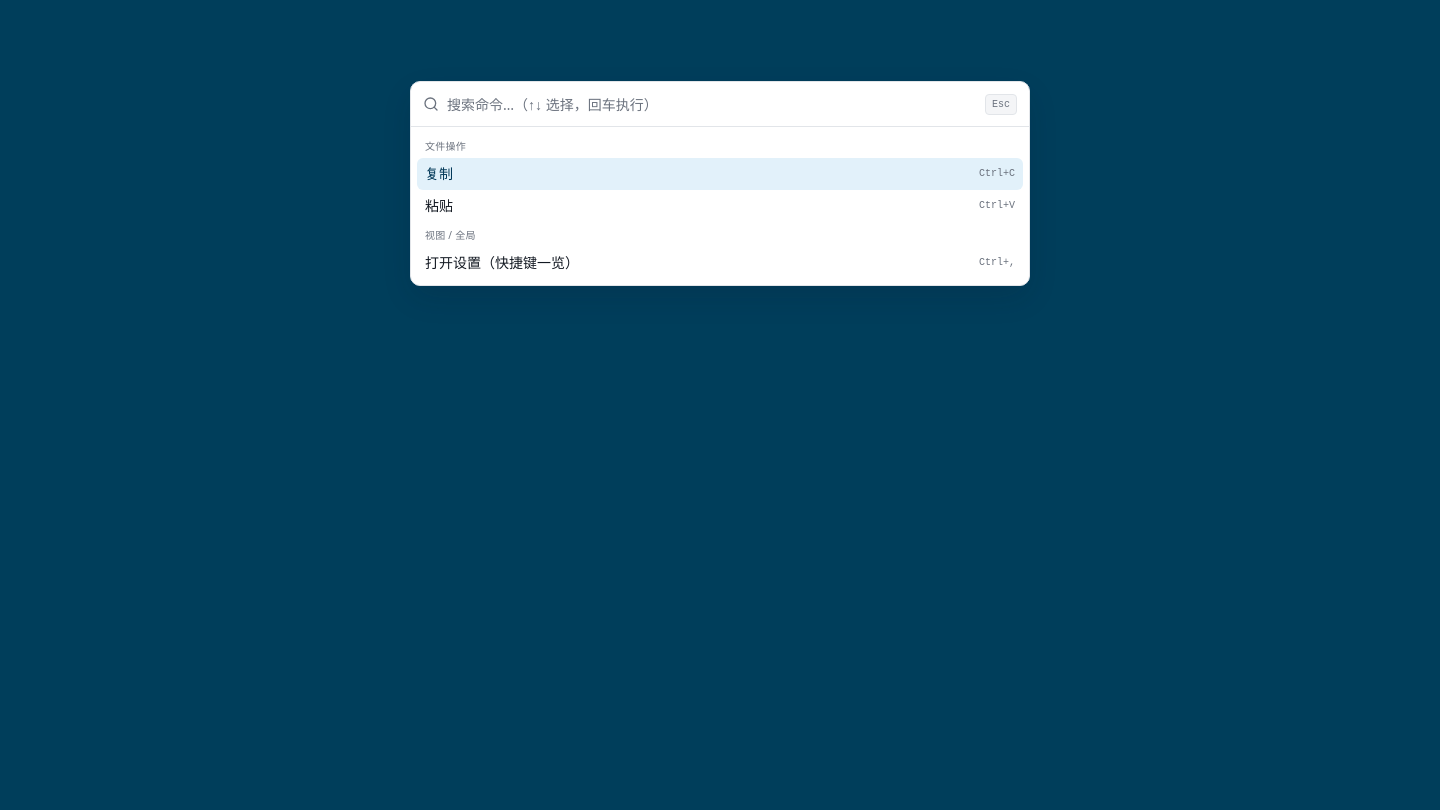
Test: CommandPalette 命令面板 › 无匹配时显示空状态
Type "不存在的命令" into the field with placeholder "搜索命令…（↑↓ 选择，回车执行）" at (712, 104), box [447, 92, 977, 116]
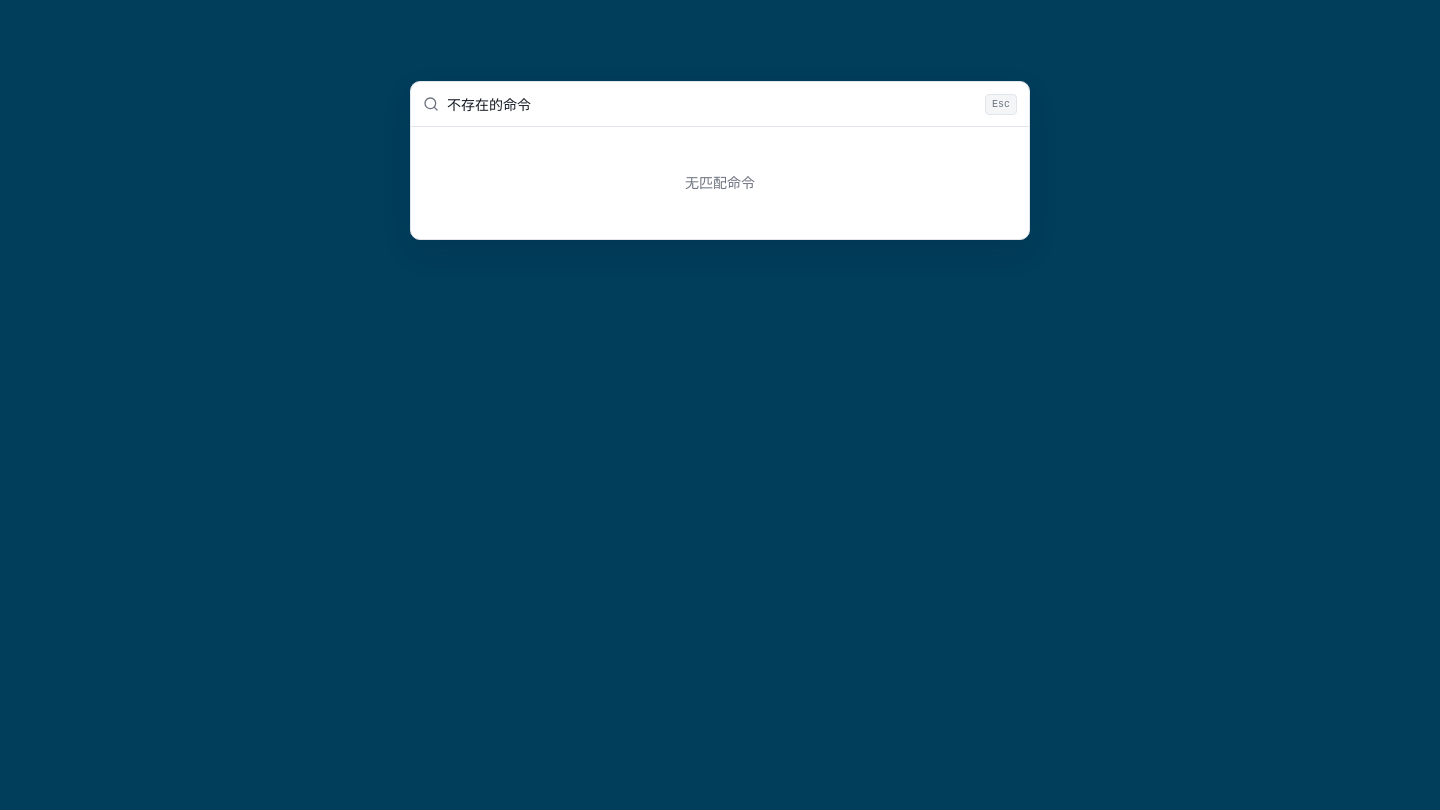
Now the text "无匹配命令" is shown, box [685, 173, 755, 192]
